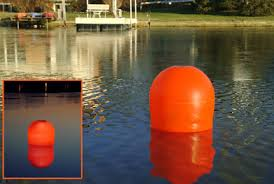buoy: (148, 65, 215, 131), (28, 119, 54, 145)
